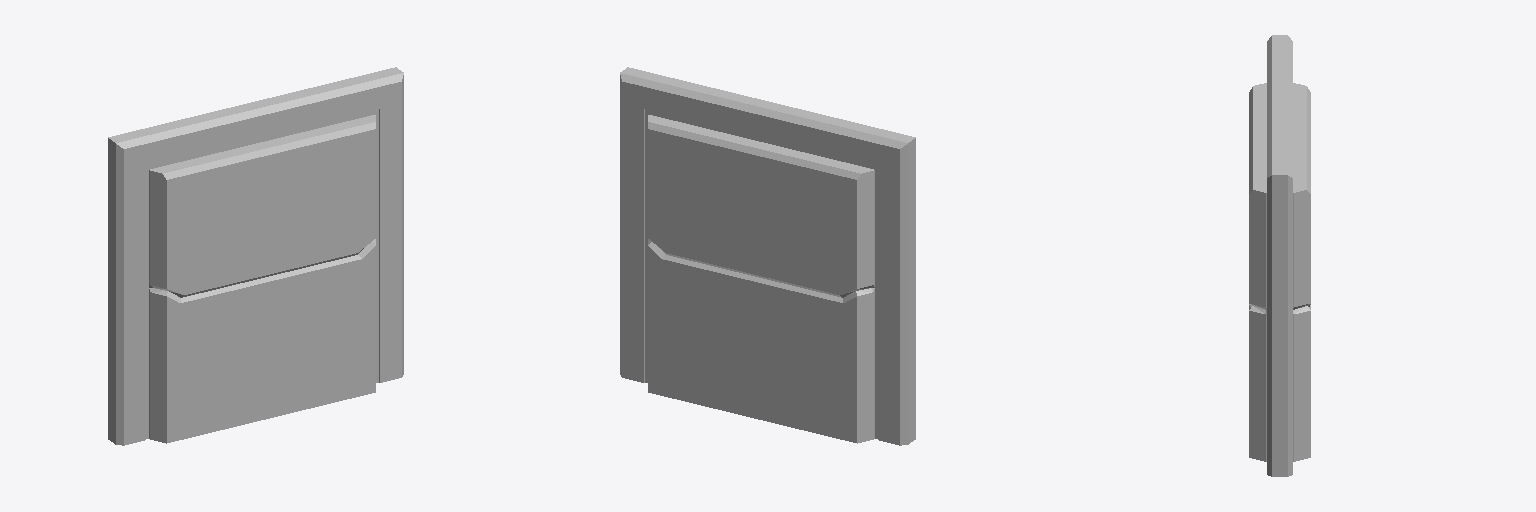
Rendered from Wall_Grey.obj.
3 renders of one model, left to right at view 1: azimuth 30°, elevation 25°; view 2: azimuth 150°, elevation 25°; view 3: azimuth 270°, elevation 25°, orthographic.
Parts seen in each view (by area): view 1: Wall_Grey; view 2: Wall_Grey; view 3: Wall_Grey.
Part boxes in pixels (x1,y1,x2,y2): Wall_Grey: (108,67,403,445); Wall_Grey: (620,67,915,445); Wall_Grey: (1249,35,1310,476).
Bounding box in the file's own units: 4 × 4 × 0.7373.